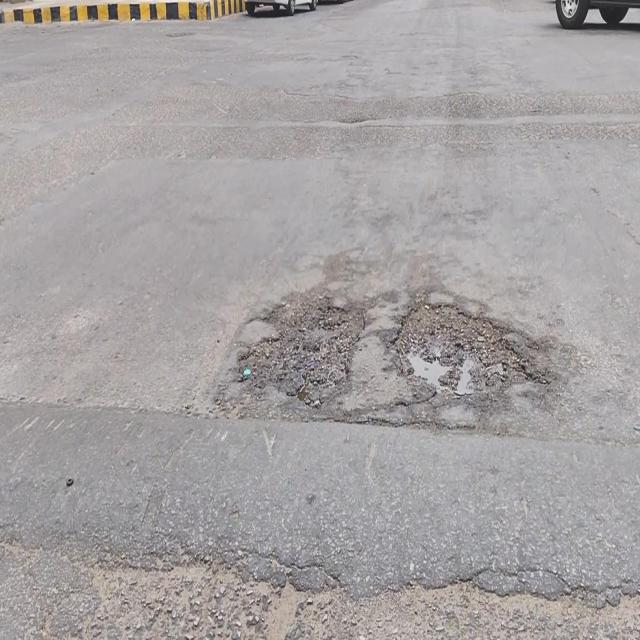Potholes: (237, 289, 368, 407), (392, 293, 532, 397)
